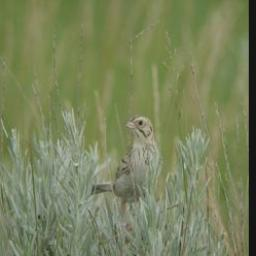Sparrow: (86, 109, 167, 241)
